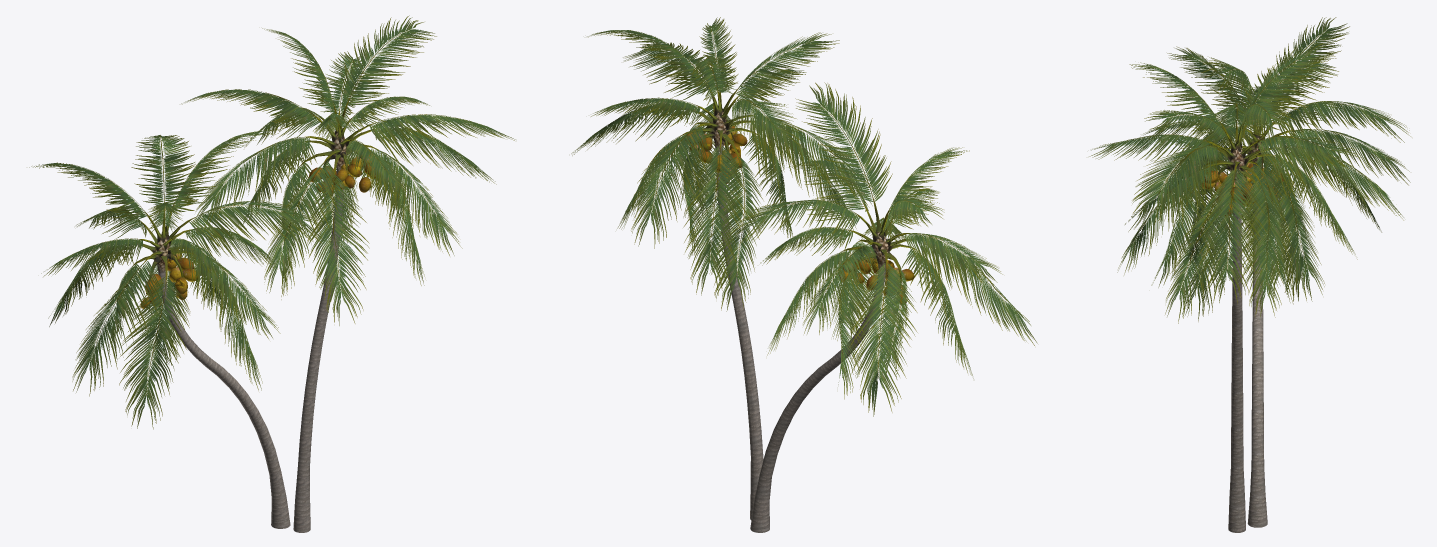
3 views of the same model, side by side, from view 1: azimuth 30°, elevation 25°; view 2: azimuth 150°, elevation 25°; view 3: azimuth 270°, elevation 25° (orthographic). The views are drawn at different scales.
Parts seen in each view (by area): view 1: Tree_2, Tree_0, Tree_3, Tree_4; view 2: Tree_2, Tree_0, Tree_3, Tree_4, Tree_1; view 3: Tree_2, Tree_0, Tree_3, Tree_4.
Boxes of the visible parts, x1=… form: Tree_2: x1=29, y1=15, x2=515, y2=429; Tree_0: x1=158, y1=170, x2=343, y2=532; Tree_3: x1=132, y1=98, x2=378, y2=295; Tree_4: x1=140, y1=154, x2=375, y2=308; Tree_2: x1=571, y1=17, x2=1037, y2=416; Tree_0: x1=716, y1=152, x2=885, y2=532; Tree_3: x1=679, y1=82, x2=917, y2=291; Tree_4: x1=685, y1=126, x2=914, y2=304; Tree_1: x1=712, y1=112, x2=888, y2=269; Tree_2: x1=1089, y1=17, x2=1410, y2=323; Tree_0: x1=1228, y1=201, x2=1267, y2=532; Tree_3: x1=1204, y1=112, x2=1296, y2=202; Tree_4: x1=1202, y1=162, x2=1283, y2=216.
Size of the model in its own units: 6.3 by 6.28 by 4.02.
5 materials, 5 textured.
